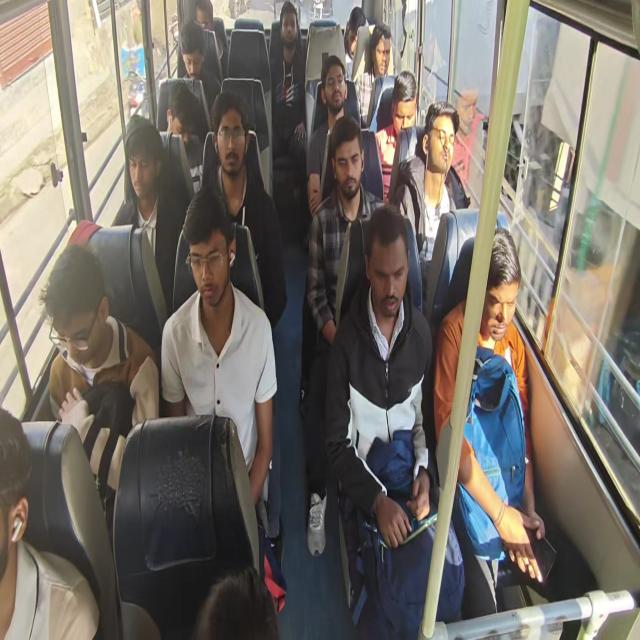person: (36, 2, 547, 636), (324, 204, 466, 638), (160, 186, 278, 538), (433, 226, 545, 586), (299, 114, 386, 556), (39, 242, 159, 534), (0, 406, 100, 639), (198, 90, 287, 328), (111, 115, 179, 317), (389, 100, 460, 266), (269, 2, 307, 204), (306, 54, 353, 217), (374, 70, 423, 204), (194, 566, 278, 639), (165, 81, 204, 192), (354, 22, 393, 130), (178, 20, 221, 112), (194, 0, 227, 78), (343, 6, 367, 80)
